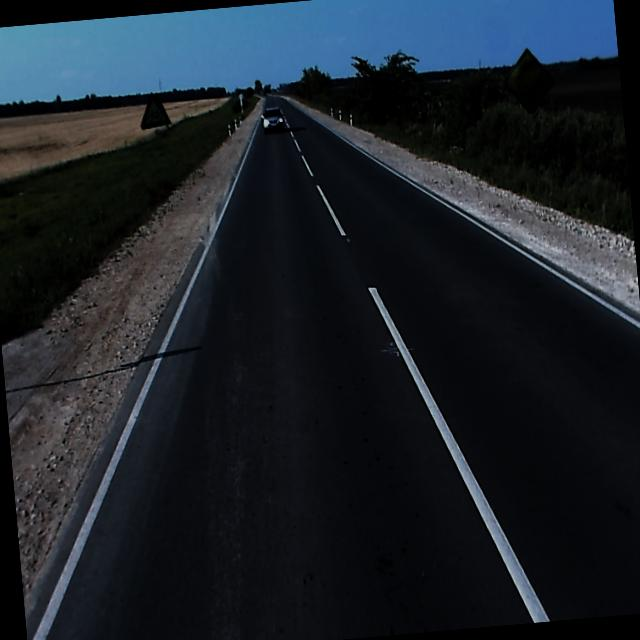road: (24, 96, 640, 640)
